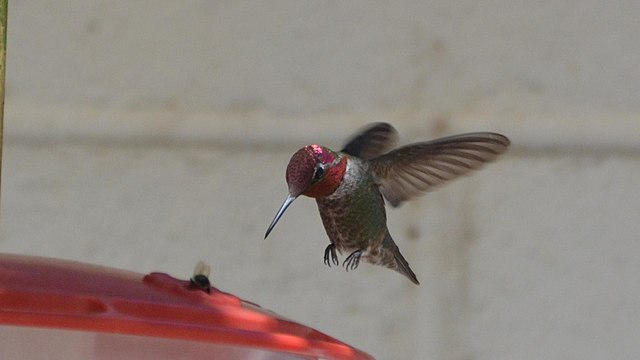calypte anna: (253, 113, 511, 292)
